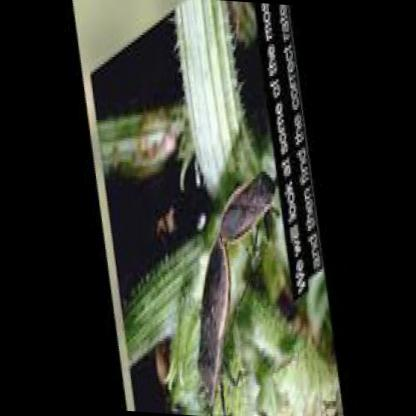ash weevil: (199, 241, 231, 414), (218, 165, 275, 248)
